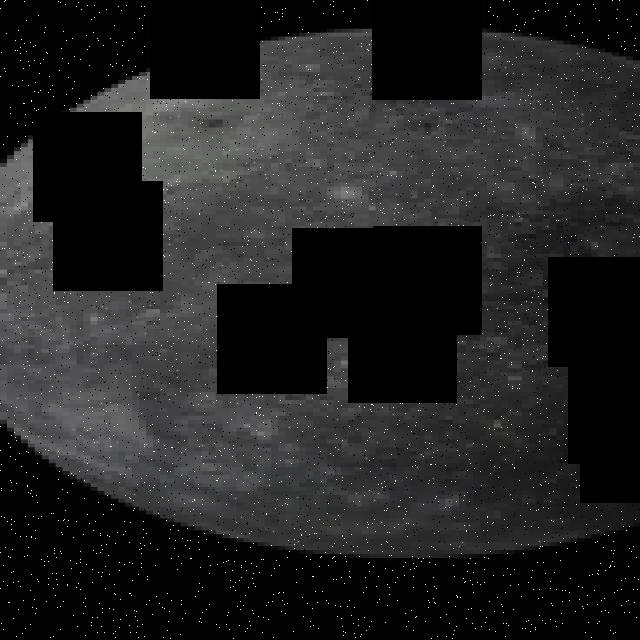Mercury: (0, 24, 640, 558)
